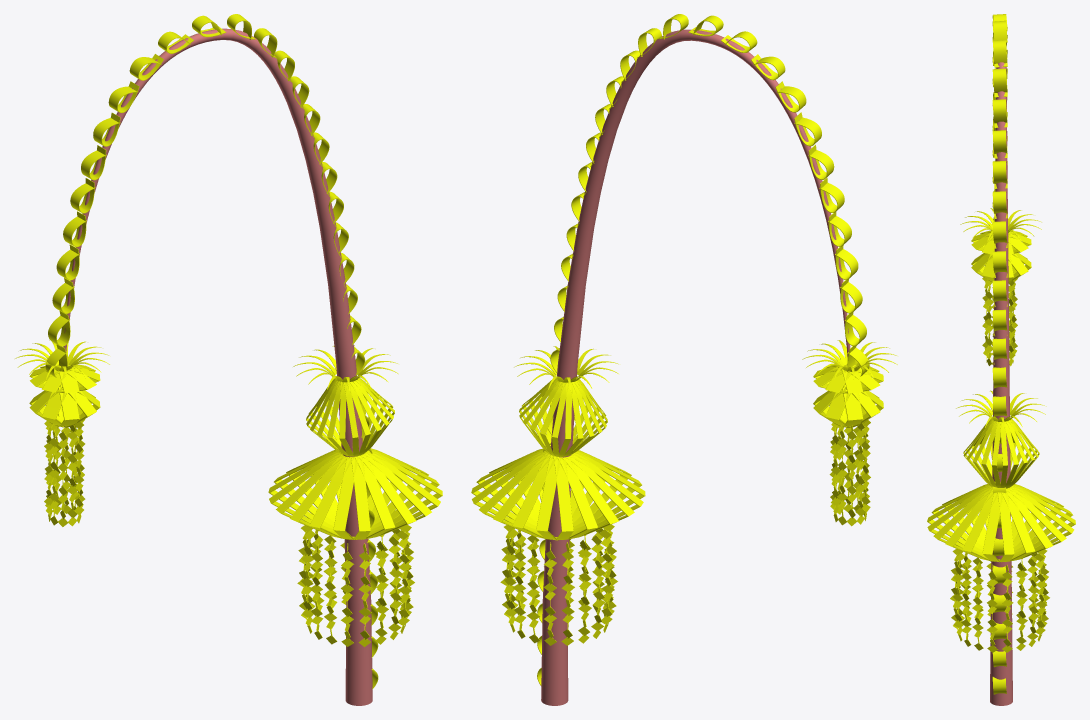
File: balinese_penjor.glb
3 views of the same model, side by side, from view 1: azimuth 30°, elevation 25°; view 2: azimuth 150°, elevation 25°; view 3: azimuth 270°, elevation 25° (orthographic). The views are drawn at different scales.
Parts seen in each view (by area): view 1: Sweep, Cloner, Cloner_3, Null, Cloner_5, Cloner_4, Cloner_2, Cloner_1, Cloner_6, Cloner_7; view 2: Sweep, Cloner_3, Cloner, Null, Cloner_5, Cloner_4, Cloner_2, Cloner_1, Cloner_6, Cloner_7; view 3: Cloner_3, Cloner, Null, Sweep, Cloner_5, Cloner_4, Cloner_2, Cloner_1, Cloner_6, Cloner_7.
Boxes of the visible parts, x1=… form: Sweep: x1=63, y1=28, x2=372, y2=705; Cloner: x1=45, y1=14, x2=378, y2=688; Cloner_3: x1=268, y1=448, x2=442, y2=539; Null: x1=297, y1=525, x2=414, y2=646; Cloner_5: x1=306, y1=376, x2=394, y2=456; Cloner_4: x1=44, y1=414, x2=85, y2=526; Cloner_2: x1=29, y1=383, x2=100, y2=427; Cloner_1: x1=29, y1=364, x2=100, y2=393; Cloner_6: x1=293, y1=345, x2=398, y2=390; Cloner_7: x1=15, y1=340, x2=109, y2=380; Sweep: x1=541, y1=29, x2=850, y2=705; Cloner_3: x1=471, y1=448, x2=645, y2=540; Cloner: x1=537, y1=14, x2=869, y2=685; Null: x1=500, y1=510, x2=617, y2=645; Cloner_5: x1=519, y1=377, x2=607, y2=456; Cloner_4: x1=829, y1=413, x2=870, y2=526; Cloner_2: x1=813, y1=383, x2=883, y2=427; Cloner_1: x1=813, y1=364, x2=883, y2=393; Cloner_6: x1=514, y1=346, x2=618, y2=391; Cloner_7: x1=802, y1=340, x2=897, y2=380; Cloner_3: x1=927, y1=484, x2=1075, y2=562; Cloner: x1=992, y1=14, x2=1007, y2=694; Null: x1=950, y1=549, x2=1049, y2=652; Sweep: x1=990, y1=62, x2=1012, y2=705; Cloner_5: x1=963, y1=417, x2=1039, y2=488; Cloner_4: x1=982, y1=275, x2=1017, y2=366; Cloner_2: x1=971, y1=253, x2=1031, y2=282; Cloner_1: x1=971, y1=230, x2=1031, y2=254; Cloner_6: x1=956, y1=390, x2=1046, y2=428; Cloner_7: x1=960, y1=208, x2=1041, y2=242.
Size of the model in its own units: 0.9072 by 1.52 by 0.3343.
